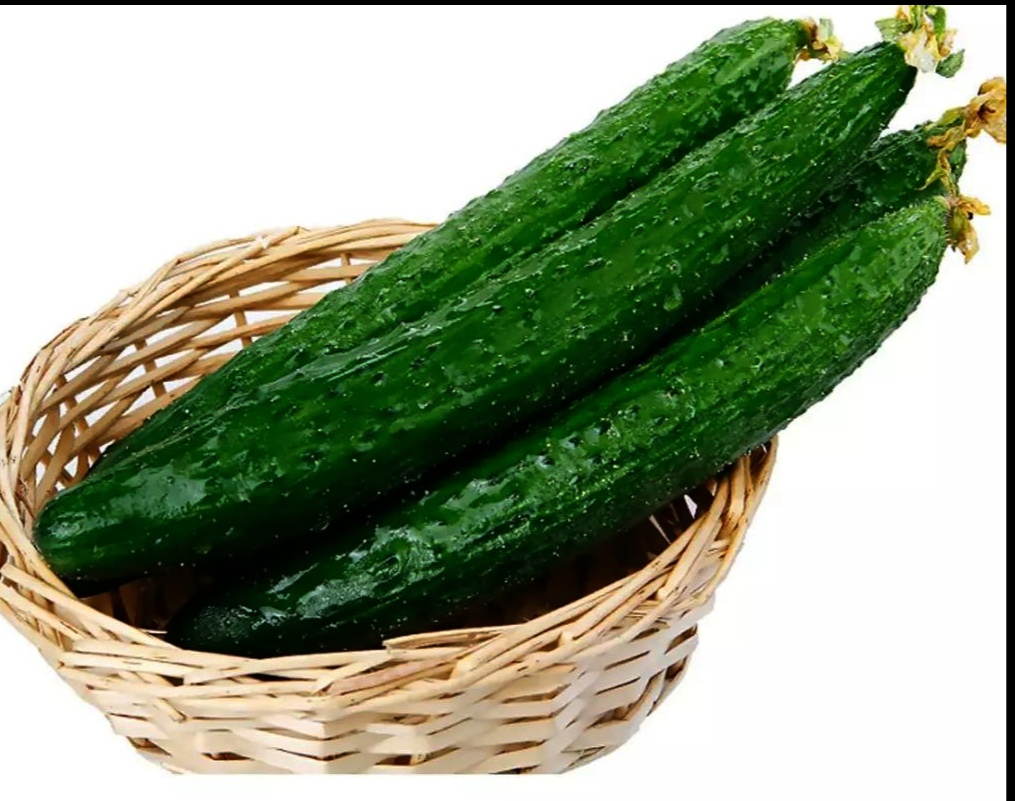cucumber: (57, 44, 919, 574), (214, 204, 949, 678)
